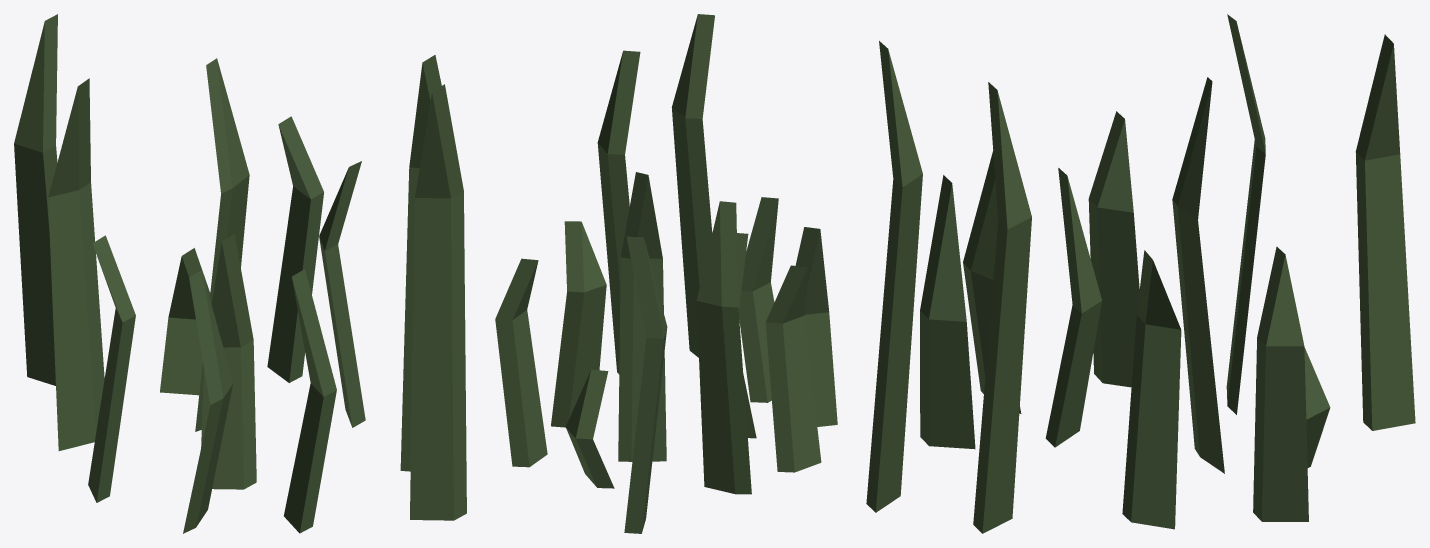
Rendered from Grass_Short.glb.
3 renders of one model, left to right at view 1: azimuth 30°, elevation 25°; view 2: azimuth 150°, elevation 25°; view 3: azimuth 270°, elevation 25°, orthographic. The views are drawn at different scales.
Visible parts, largest first — view 1: Grass_Short.obj; view 2: Grass_Short.obj; view 3: Grass_Short.obj.
Part boxes in pixels (box(x1,y1,x2,y2)): Grass_Short.obj: box(14, 14, 466, 533); Grass_Short.obj: box(495, 14, 837, 533); Grass_Short.obj: box(866, 14, 1415, 533).
Bounding box in the file's own units: 0.3162 × 0.4046 × 0.4417.
